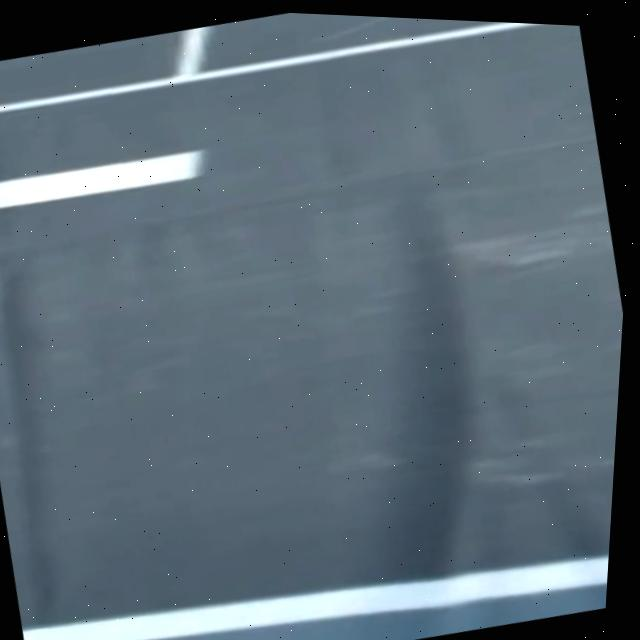center: (0, 151, 202, 208)
left: (21, 556, 609, 640)
